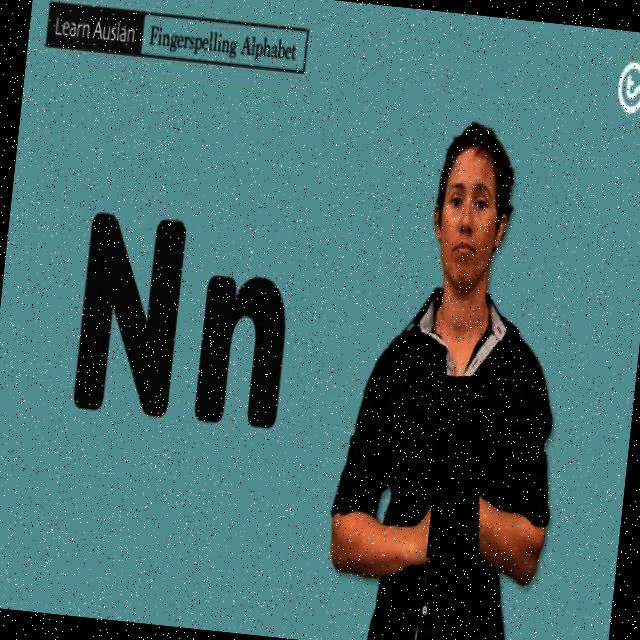N: (424, 374, 495, 565)
